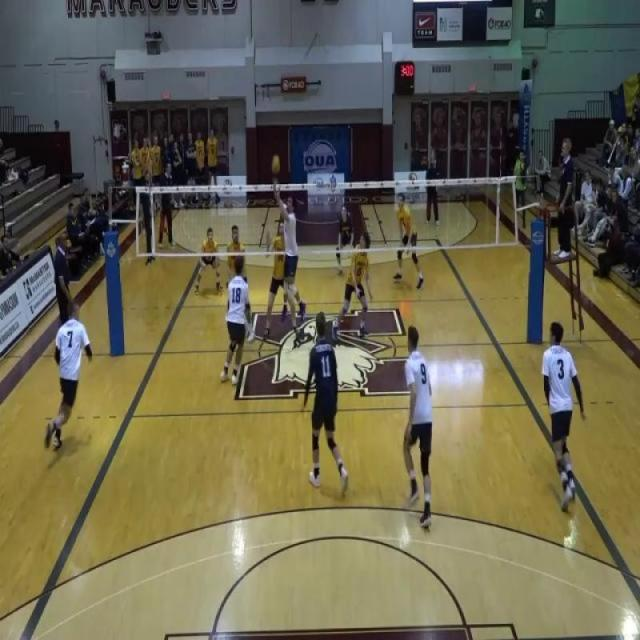volleyball: (270, 153, 281, 176), (519, 162, 524, 172)
